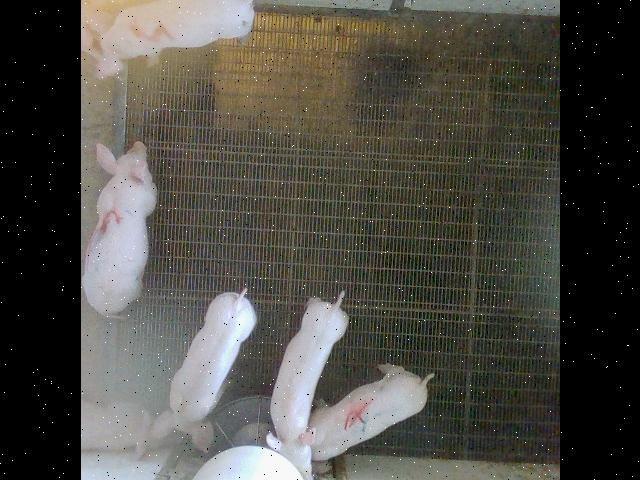pig-2: (90, 0, 254, 78)
pig-3: (82, 141, 156, 315)
pig-4: (298, 365, 432, 472)
